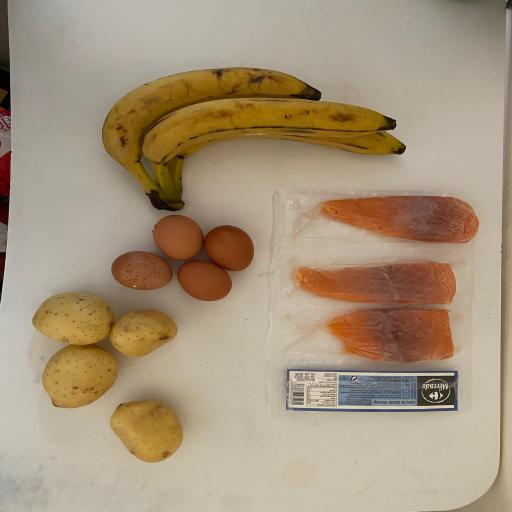banana: (86, 49, 346, 204), (132, 70, 411, 214), (163, 80, 420, 214)
egg: (199, 221, 260, 275), (109, 248, 174, 294), (150, 212, 206, 264), (174, 258, 236, 304)
potato: (39, 342, 121, 410), (107, 398, 188, 466), (30, 289, 116, 349), (107, 307, 183, 361)
salmon: (313, 190, 482, 248), (314, 302, 461, 365), (286, 258, 464, 308)
